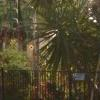Palm tree: (40, 9, 87, 76)
